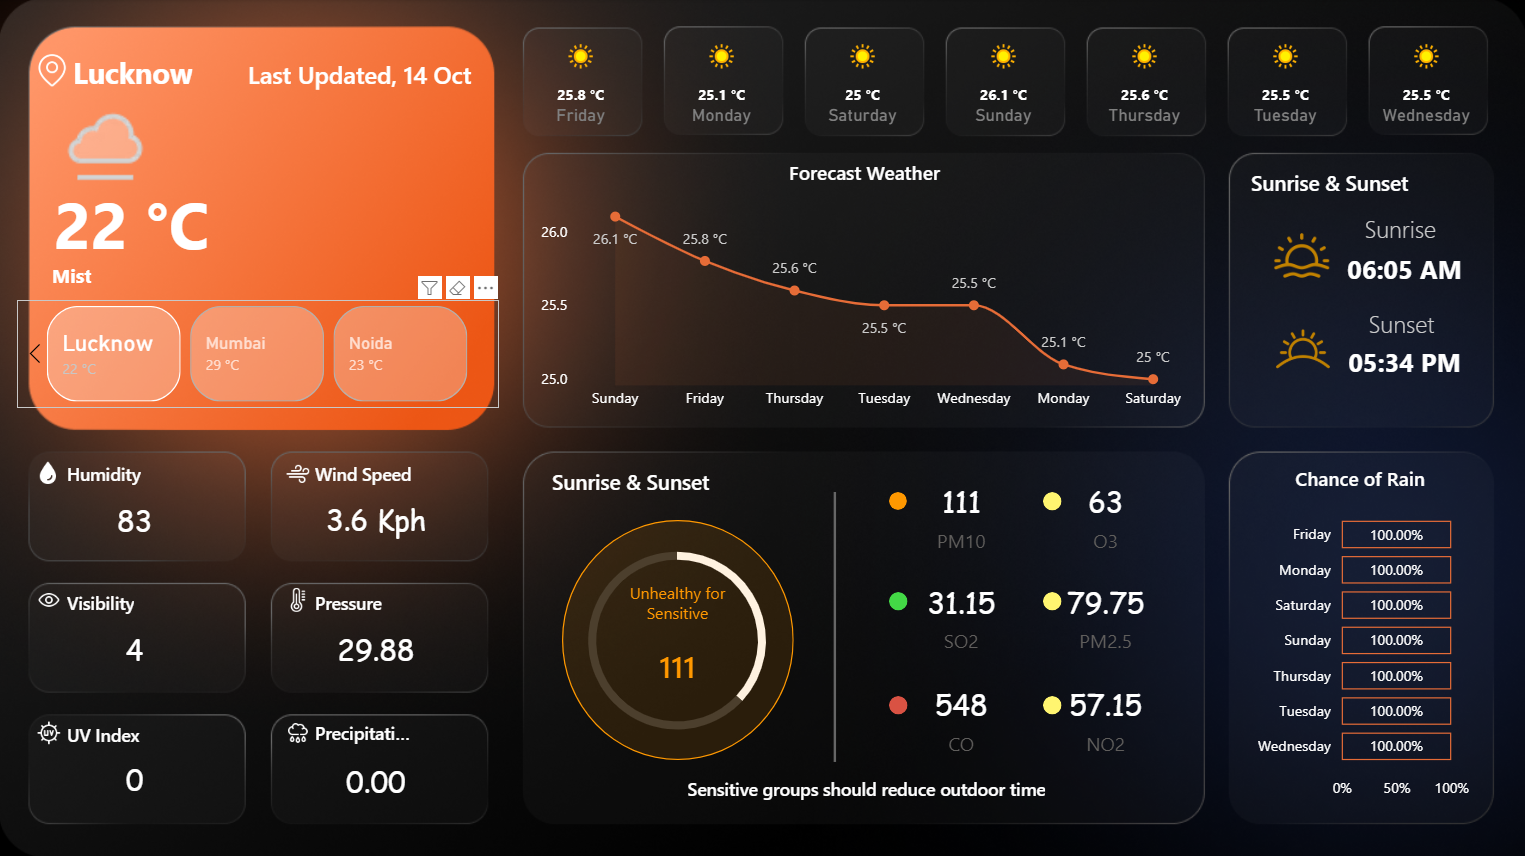

This screenshot's page, from the dashboard's own definition file:
{"tool":"powerbi","page":{"name":"Page 1","canvas":[1280,720],"ordinal":0},"visuals":[{"type":"donutChart","fields":{"Y":["Sum(Current.current.air_quality.pm10)","_Measures.Left_value_PM10"]},"box":[470,426,196,222],"z":0},{"type":"advancedSlicerVisual","fields":{"Values":["Locations.location.name"]},"box":[15.1,251.9,403.3,90.8],"z":1000},{"type":"shape","box":[15.7,141.4,190,90],"z":2000},{"type":"shape","box":[44.7,213.8,356.3,34.9],"z":3000},{"type":"shape","box":[61.9,44,133.5,34.4],"z":4000},{"type":"shape","box":[208.2,46.1,206.8,33.5],"z":5000},{"type":"image","box":[26.2,39.9,37.2,39.9],"z":6000},{"type":"cardVisual","fields":{"Data":["Min(Current.current.condition.icon)"]},"box":[0,55.7,150,111.4],"z":7000},{"type":"image","box":[27,488.5,29.6,29.6],"z":8000},{"type":"shape","box":[264.7,384,83.6,26.1],"z":9000},{"type":"image","box":[26.1,381.4,30.5,30.5],"z":10000},{"type":"image","box":[235.1,382.3,29.6,29.6],"z":11000},{"type":"image","box":[235.1,488.5,29.6,29.6],"z":12000},{"type":"image","box":[27,599.1,29.6,29.6],"z":13000},{"type":"image","box":[235.1,599.1,29.6,29.6],"z":14000},{"type":"shape","box":[56.6,492,83.6,26.1],"z":15000},{"type":"shape","box":[56.6,602.6,83.6,26.1],"z":16000},{"type":"shape","box":[264.7,600.8,83.6,26.1],"z":17000},{"type":"shape","box":[264.7,492,83.6,26.1],"z":18000},{"type":"shape","box":[56.6,384,83.6,26.1],"z":19000},{"type":"card","fields":{"Values":["Sum(Current.current.humidity)"]},"box":[62,410.2,103,55.3],"z":20000},{"type":"card","fields":{"Values":["Sum(Current.current.uv)"]},"box":[62,627.1,103,56.1],"z":21000},{"type":"card","fields":{"Values":["Sum(Current.current.vis_km)"]},"box":[62,518.2,103,56.1],"z":22000},{"type":"card","fields":{"Values":["Sum(Current.current.precip_in)"]},"box":[264.1,628.8,103.4,55.9],"z":23000},{"type":"card","fields":{"Values":["Sum(Current.current.pressure_in)"]},"box":[264.1,518.4,103.4,55.9],"z":24000},{"type":"card","fields":{"Values":["_Measures.Wind_Speed"]},"box":[254.5,409.4,122.2,56.1],"z":25000},{"type":"advancedSlicerVisual","fields":{"Values":["Forcast_Day.Day_Name"]},"box":[429.4,23.4,829.9,100.5],"z":26000},{"type":"lineChart","title":"Forecast Weather","fields":{"Y":["Sum(Forcast_Day.forecast.forecastday.day.avgtemp_c)"],"Category":["Forcast_Day.Day_Name"]},"box":[447.9,134.8,553.4,217.7],"z":27000},{"type":"shape","box":[1048.4,140.9,152.4,25.9],"z":28000},{"type":"shape","box":[1081.3,180,190.5,90.7],"z":29000},{"type":"shape","box":[1081.3,257.5,190.5,90.7],"z":30000},{"type":"shape","box":[1132.6,257.5,82.8,26.3],"z":31000},{"type":"shape","box":[1131.2,178.7,84.1,26.3],"z":32000},{"type":"image","box":[1051.1,186.6,80.1,56.5],"z":33000},{"type":"image","box":[1051.1,257.5,81.5,69.6],"z":34000},{"type":"hundredPercentStackedBarChart","title":"Chance of Rain","fields":{"Y":["Sum(Forcast_Day.forecast.forecastday.day.daily_chance_of_rain)","Current.Left_value_Rain"],"Category":["Forcast_Day.Day_Name"]},"box":[1043.3,390.9,192.7,287.7],"z":35000},{"type":"shape","box":[463.1,391.2,152.4,25.9],"z":36000},{"type":"card","fields":{"Values":["Sum(Current.current.air_quality.o3)"]},"box":[866.4,397,119.9,72.4],"z":37000},{"type":"card","fields":{"Values":["Sum(Current.current.air_quality.pm10)"]},"box":[745.5,397,121,72.4],"z":38000},{"type":"card","fields":{"Values":["Sum(Current.current.air_quality.so2)"]},"box":[745.5,481.8,121,71.3],"z":39000},{"type":"card","fields":{"Values":["Sum(Current.current.air_quality.pm2_5)"]},"box":[866.4,481.8,119.9,71.3],"z":40000},{"type":"card","fields":{"Values":["Sum(Current.current.air_quality.co)"]},"box":[745.5,566.6,121,72.4],"z":41000},{"type":"card","fields":{"Values":["Sum(Current.current.air_quality.no2)"]},"box":[866.4,566.6,119.9,72.4],"z":42000},{"type":"shape","box":[745.5,412.5,15,15],"z":43000},{"type":"shape","box":[873.7,412.5,15.5,15.5],"z":44000},{"type":"shape","box":[745.5,496.3,15.5,15.5],"z":45000},{"type":"shape","box":[745.5,583.1,15.5,15.5],"z":46000},{"type":"shape","box":[873.7,583.1,15.5,15.5],"z":47000},{"type":"shape","box":[873.7,496.3,15.5,15.5],"z":48000},{"type":"shape","box":[675,413,50,226],"z":49000},{"type":"shape","box":[471,436,194,201],"z":50000},{"type":"card","fields":{"Values":["Sum(Current.current.air_quality.pm10)"]},"box":[504,488,128,109],"z":51000},{"type":"shape","box":[572,648,309,26],"z":52000}]}

Visuals, with their boxes in screenshot pixels (x1, y1, x2, y2), scaled from the page's 1280x720 canvas onto the 1525x856 screenshot:
donutChart - Sum(Current.current.air_quality.pm10) x _Measures.Left_value_PM10: 560, 506, 793, 770
advancedSlicerVisual - Locations.location.name: 18, 299, 498, 407
shape: 19, 168, 245, 275
shape: 53, 254, 478, 296
shape: 74, 52, 233, 93
shape: 248, 55, 494, 95
image: 31, 47, 76, 95
cardVisual - Min(Current.current.condition.icon): 0, 66, 179, 199
image: 32, 581, 67, 616
shape: 315, 457, 415, 488
image: 31, 453, 67, 490
image: 280, 455, 315, 490
image: 280, 581, 315, 616
image: 32, 712, 67, 747
image: 280, 712, 315, 747
shape: 67, 585, 167, 616
shape: 67, 716, 167, 747
shape: 315, 714, 415, 745
shape: 315, 585, 415, 616
shape: 67, 457, 167, 488
card - Sum(Current.current.humidity): 74, 488, 197, 553
card - Sum(Current.current.uv): 74, 746, 197, 812
card - Sum(Current.current.vis_km): 74, 616, 197, 683
card - Sum(Current.current.precip_in): 315, 748, 438, 814
card - Sum(Current.current.pressure_in): 315, 616, 438, 683
card - _Measures.Wind_Speed: 303, 487, 449, 553
advancedSlicerVisual - Forcast_Day.Day_Name: 512, 28, 1500, 147
"Forecast Weather" lineChart: 534, 160, 1193, 419
shape: 1249, 168, 1431, 198
shape: 1288, 214, 1515, 322
shape: 1288, 306, 1515, 414
shape: 1349, 306, 1448, 337
shape: 1348, 212, 1448, 244
image: 1252, 222, 1348, 289
image: 1252, 306, 1349, 389
"Chance of Rain" hundredPercentStackedBarChart: 1243, 465, 1473, 807
shape: 552, 465, 733, 496
card - Sum(Current.current.air_quality.o3): 1032, 472, 1175, 558
card - Sum(Current.current.air_quality.pm10): 888, 472, 1032, 558
card - Sum(Current.current.air_quality.so2): 888, 573, 1032, 658
card - Sum(Current.current.air_quality.pm2_5): 1032, 573, 1175, 658
card - Sum(Current.current.air_quality.co): 888, 674, 1032, 760
card - Sum(Current.current.air_quality.no2): 1032, 674, 1175, 760
shape: 888, 490, 906, 508
shape: 1041, 490, 1059, 509
shape: 888, 590, 907, 608
shape: 888, 693, 907, 712
shape: 1041, 693, 1059, 712
shape: 1041, 590, 1059, 608
shape: 804, 491, 864, 760
shape: 561, 518, 792, 757
card - Sum(Current.current.air_quality.pm10): 600, 580, 753, 710
shape: 681, 770, 1050, 801
